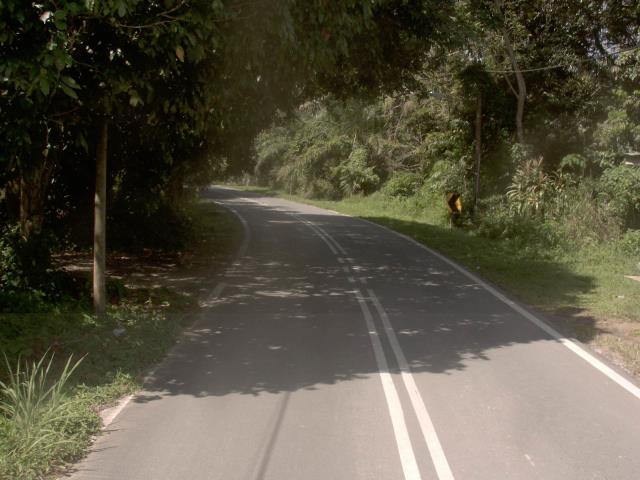traffic_sign: (439, 185, 468, 220)
